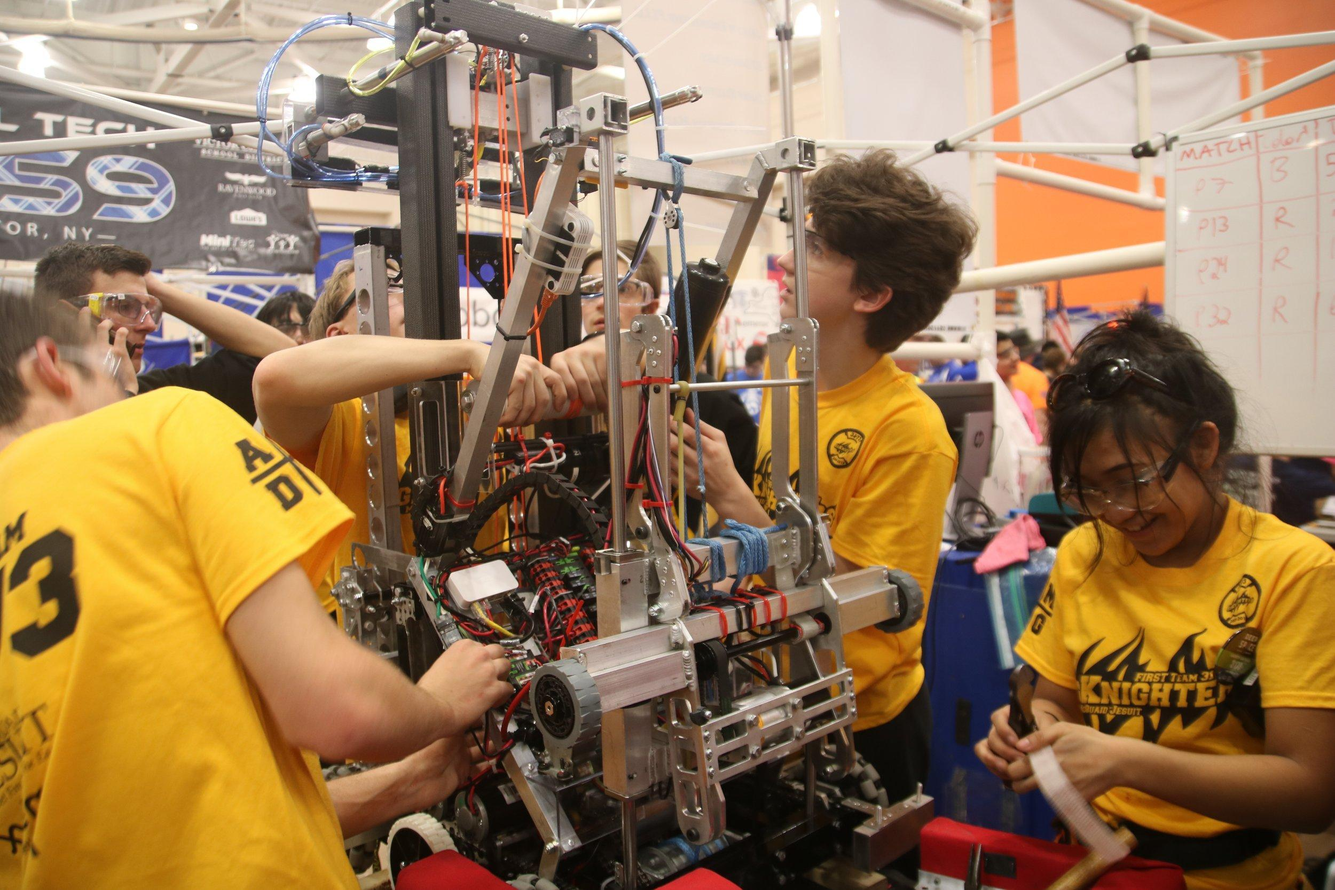robot: (248, 0, 1208, 890)
